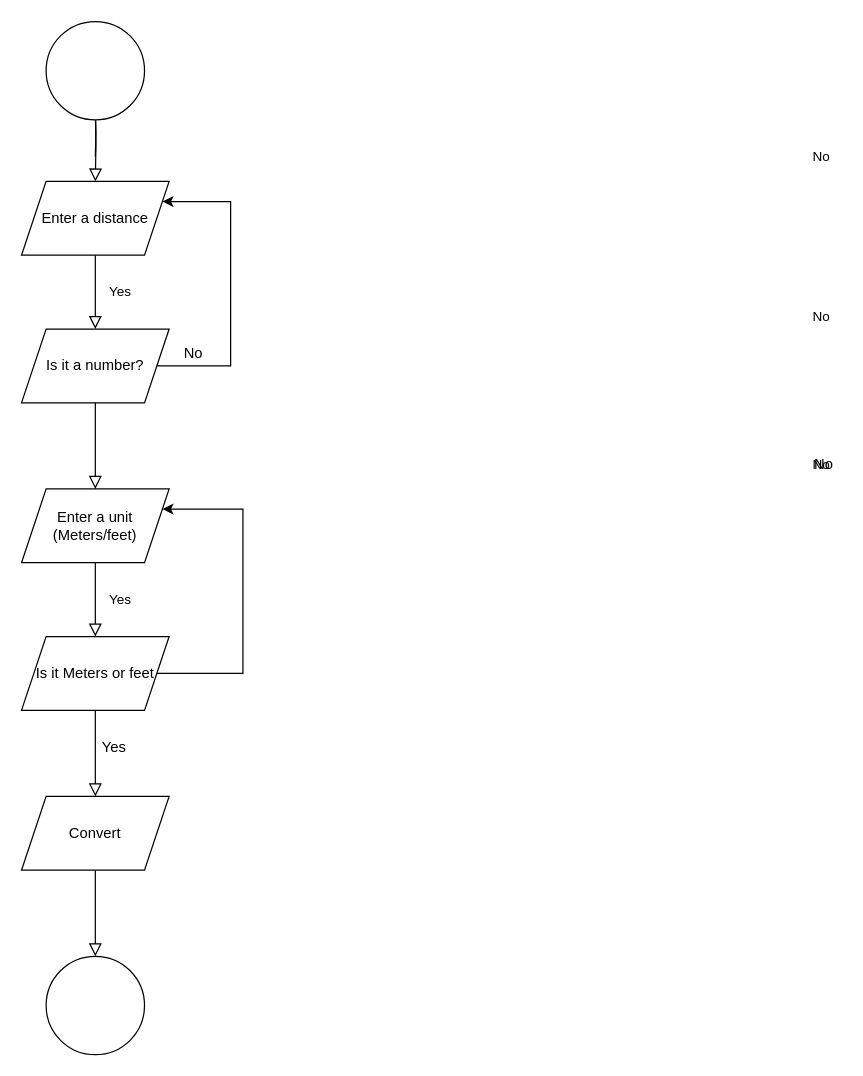
The diagram is 863 pixels wide and 1076 high, and some of its shapes have lost their labels. Each missing label, with the box of its shape:
End: (45, 955, 145, 1055)
Start: (45, 20, 145, 120)
